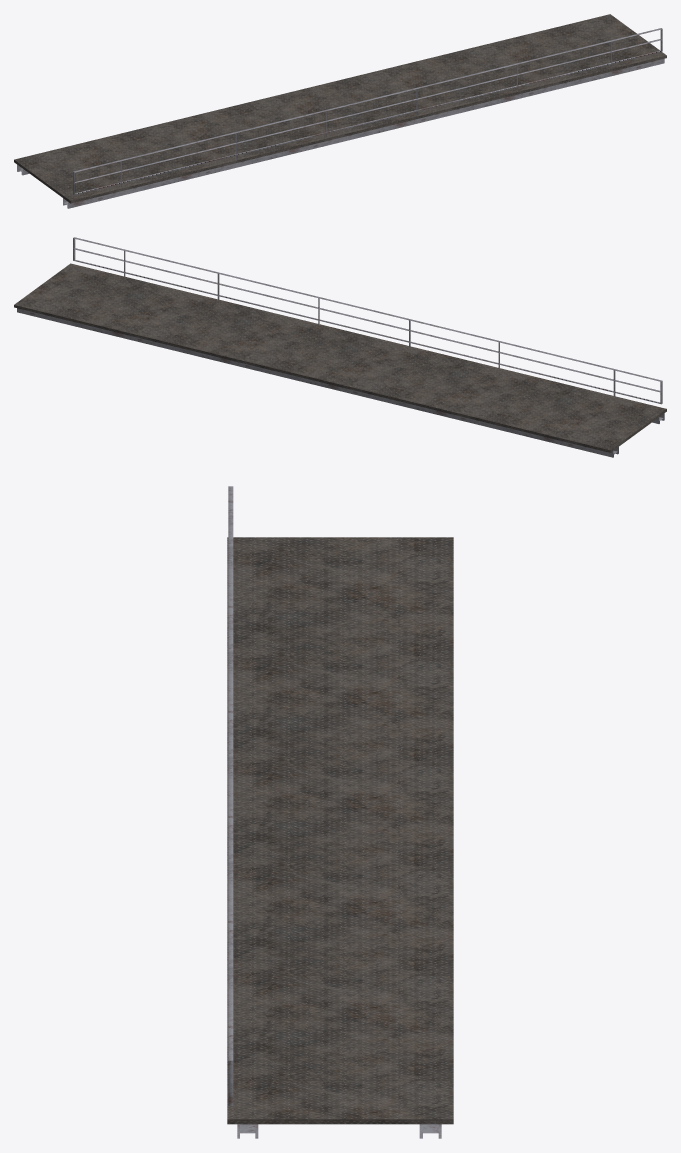
File: Factory1Stairs05.FBX
The picture shows the model from 3 angles, top to bottom: view 1: azimuth 30°, elevation 25°; view 2: azimuth 150°, elevation 25°; view 3: azimuth 270°, elevation 25°; orthographic projection. The views are drawn at different scales.
Parts seen in each view (by area): view 1: Factory1Stairs05; view 2: Factory1Stairs05; view 3: Factory1Stairs05.
Boxes of the visible parts, x1,y1,x2,y2 form: Factory1Stairs05: (14, 14, 666, 208); Factory1Stairs05: (14, 237, 666, 457); Factory1Stairs05: (227, 486, 453, 1138).
Bounding box in the file's own units: 1520 × 90.4 × 250.
